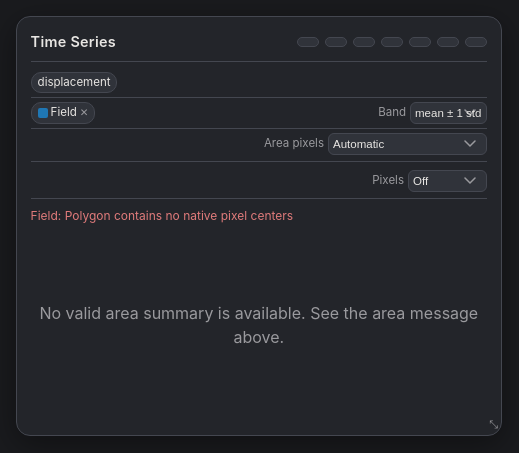
areas in the time-series chart › shows a short message when the server refuses the polygon, and removes the area
Expected: the message reads "Field: Polygon contains no native pixel centers", [31,208,293,223]
Click the button titled "Remove Field".
click(84, 113)  # box [80,108,88,118]
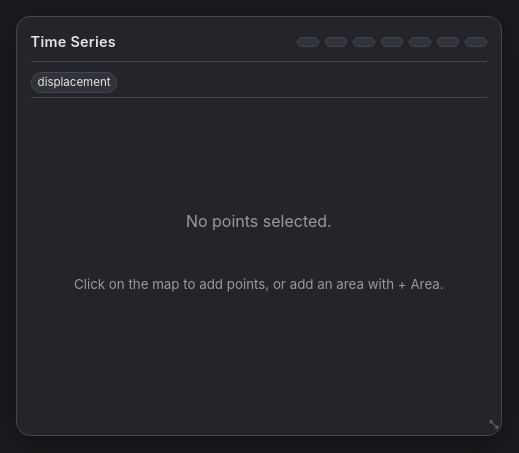
Now the message "Field: Polygon contains no native pixel centers" is gone
